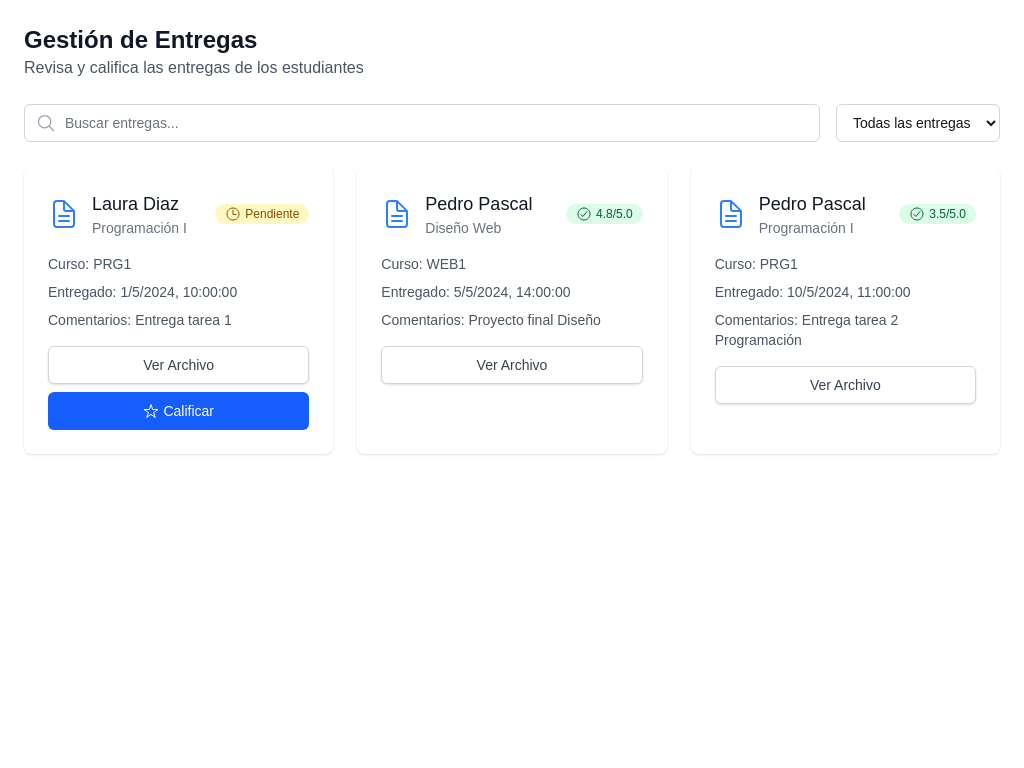
Test: SubmissionsPage › Modal de Calificación › debería enviar calificación y cerrar modal
expect the text "Laura Diaz" is shown: met, box [92,194,179,214]
Click the button "Calificar": coordinates (179, 411) [48,392,309,430]
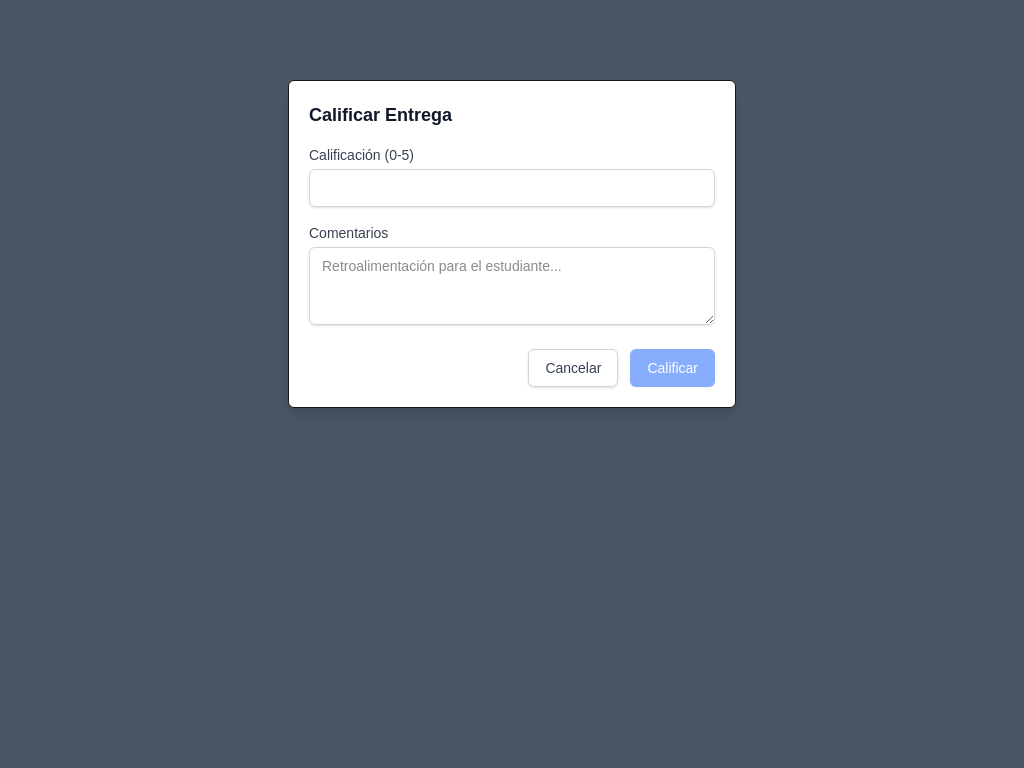
In the number field labelled "Calificación (0-5)": coordinates (512, 188) [309,169,715,207], type "4.7"
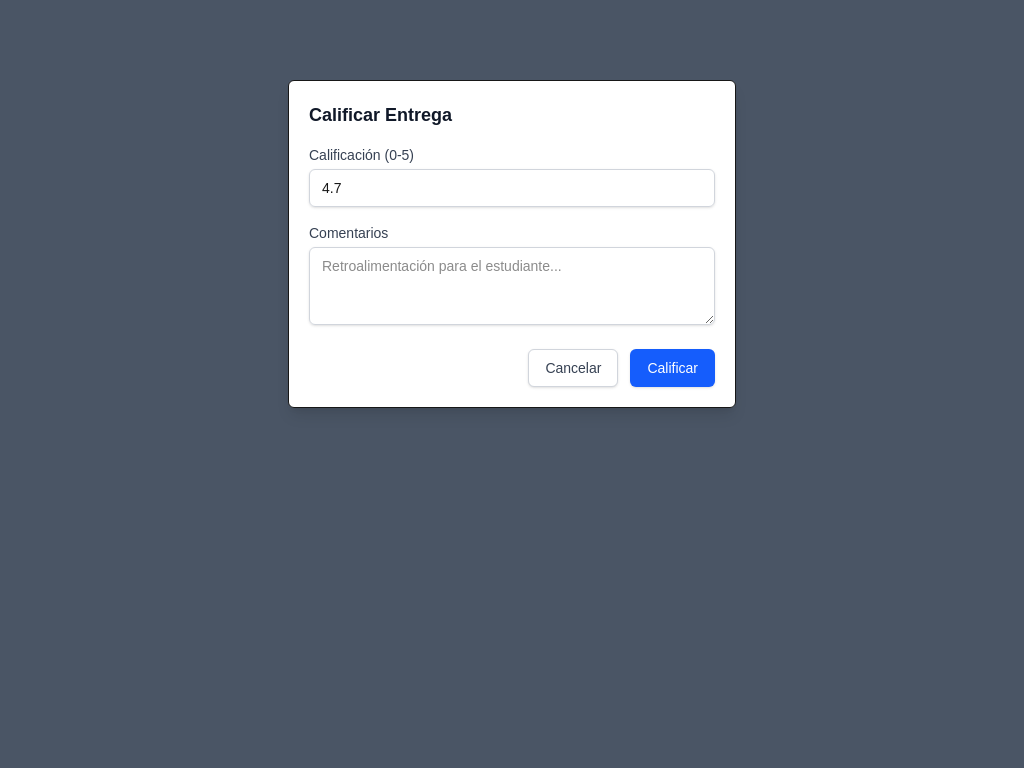
In the text box with placeholder "Retroalimentación para el estudiante...": coordinates (512, 286) [309,247,715,325], type "Excelente!"
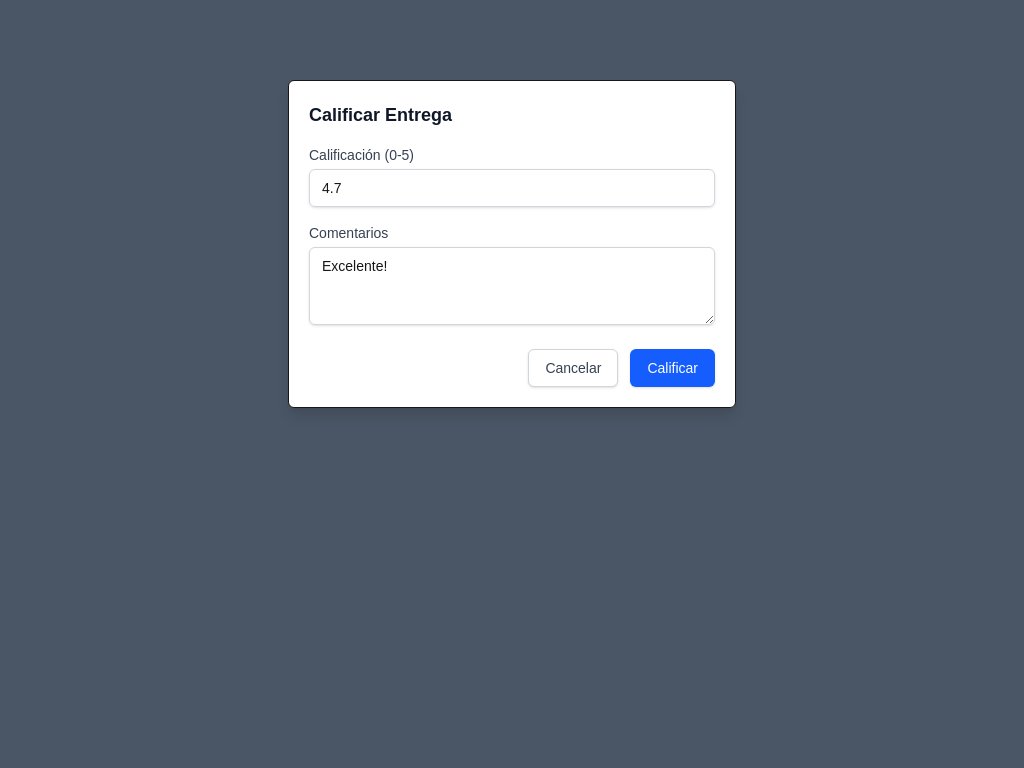
expect the button "Calificar" is enabled: met
Click the button "Calificar": coordinates (673, 368) [630,349,715,387]
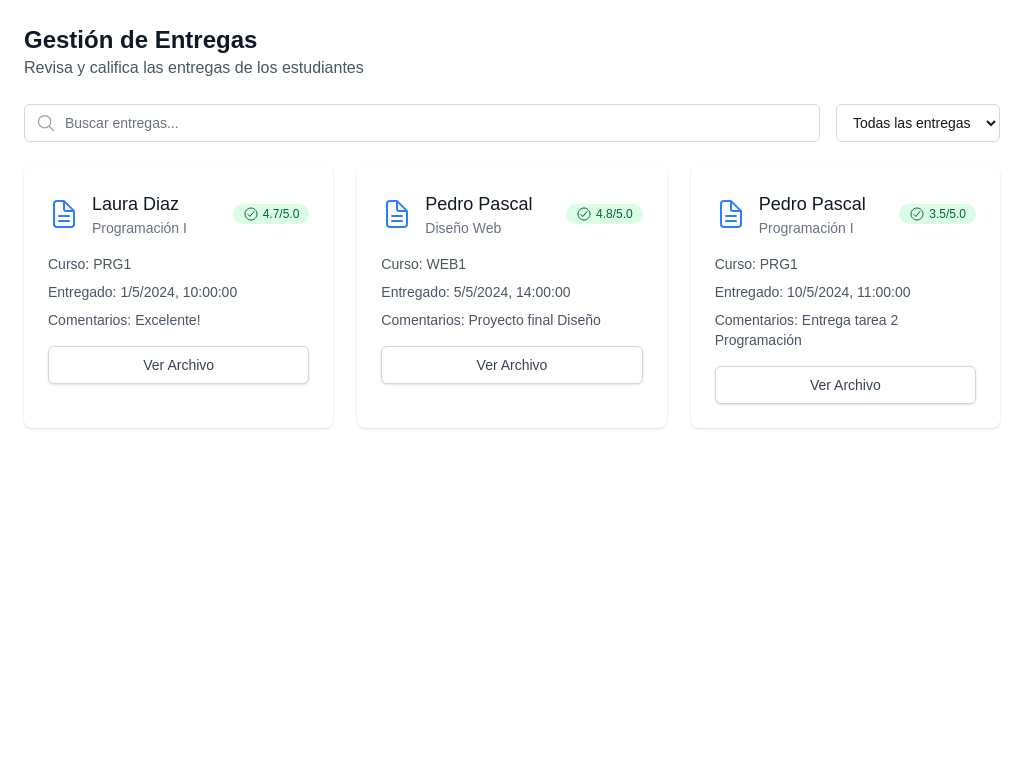
expect the element with test id "grading-modal" is gone: met
